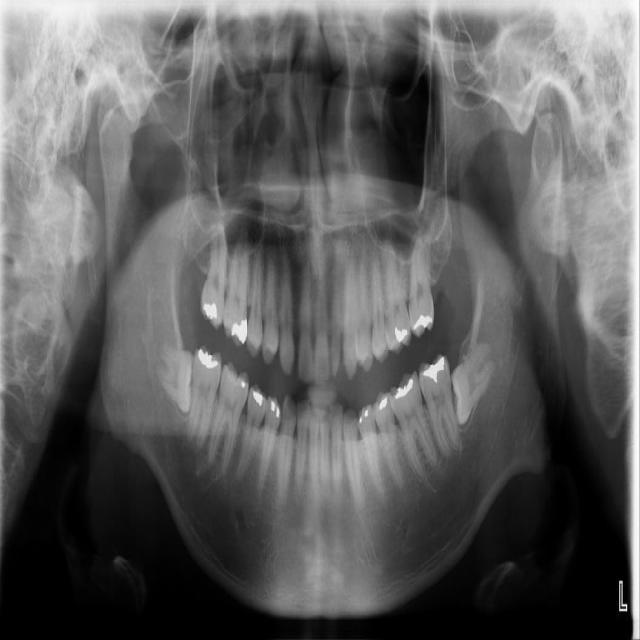52: (411, 352, 460, 401), (384, 370, 429, 422), (184, 342, 232, 389), (215, 359, 253, 414), (383, 301, 414, 357), (222, 291, 248, 349), (199, 278, 226, 332), (408, 290, 435, 338), (244, 382, 272, 423), (371, 391, 396, 433), (356, 404, 377, 438), (263, 395, 284, 429)
73: (572, 560, 578, 580)
BioHorizons Implant: (405, 230, 435, 338)
Biomet 3i Implant: (430, 335, 507, 427)
Blue Sky Bio Implant: (415, 353, 465, 461)
Caries: (198, 210, 232, 332)
Implant: (185, 344, 223, 452)
Keystone Dental Implant: (152, 343, 196, 415)
